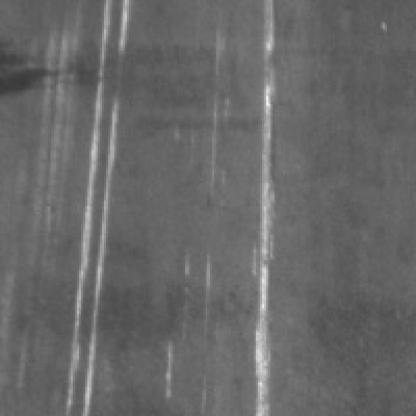inclusion: (6, 40, 102, 102)
scratches: (65, 10, 131, 416), (252, 6, 286, 416)
